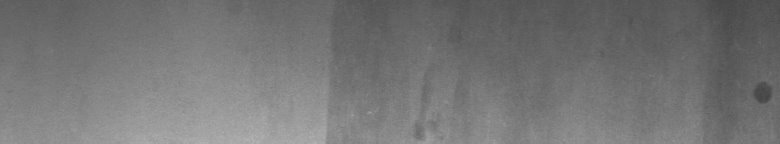fi: (748, 72, 776, 111)
